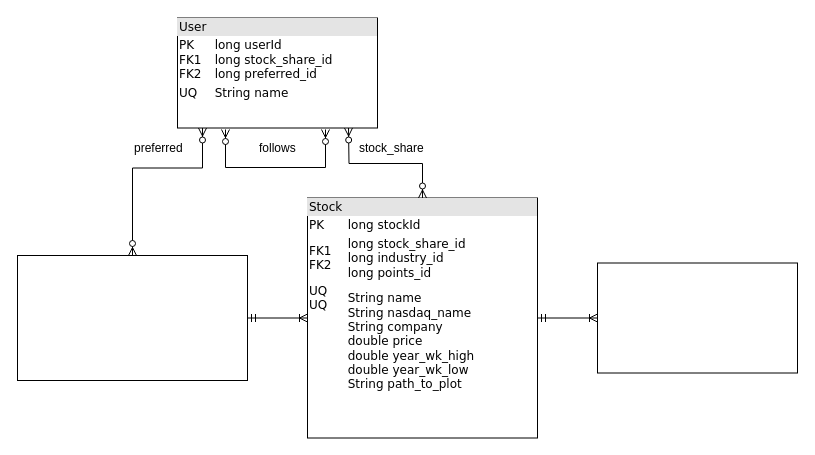
This 815x455 diagram has some shape labels left out. The centre of each missing label's shape, as x and y in pixels:
DataPoint PK FK1 data_point_id long stock_id int y LocalDate x: (x=697, y=317)
Industry PK long industry_id FK1 preferred_id Fk2 stock_id String name: (x=132, y=317)
